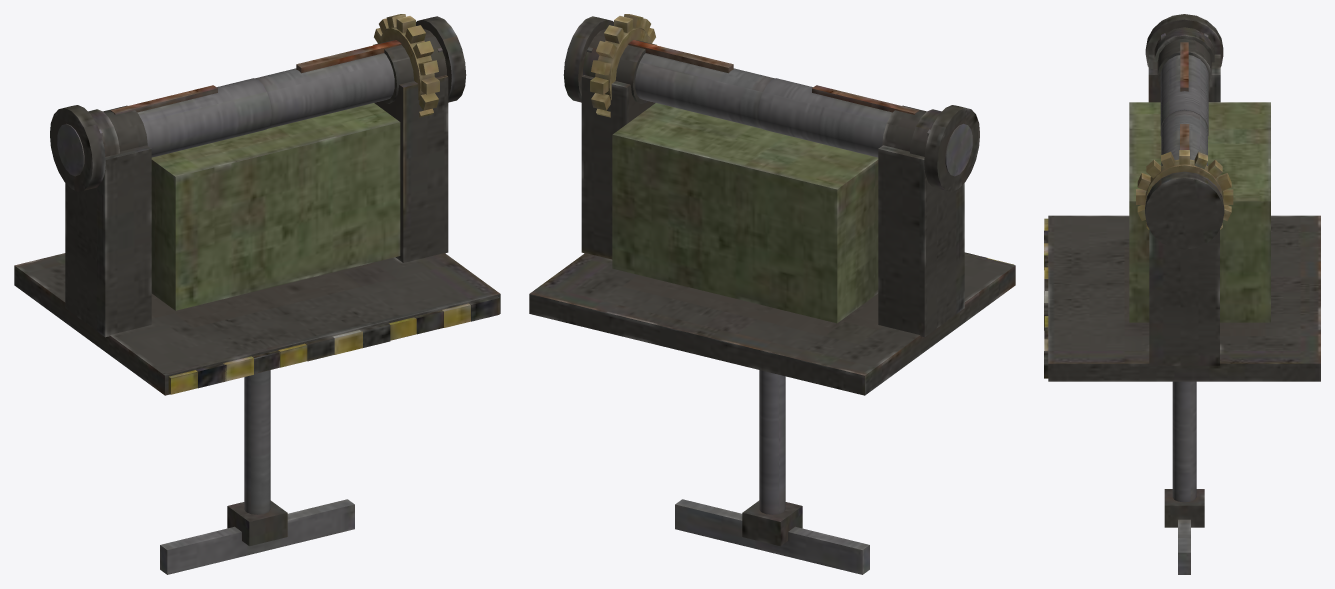
The model's file is feBender.glb.
3 renders of one model, left to right at view 1: azimuth 30°, elevation 25°; view 2: azimuth 150°, elevation 25°; view 3: azimuth 270°, elevation 25°, orthographic. The views are drawn at different scales.
Visible parts, largest first — view 1: feBender_Base, FeSpin_DriveShaft, FePiston_InlinePunch; view 2: feBender_Base, FeSpin_DriveShaft, FePiston_InlinePunch; view 3: feBender_Base, FeSpin_DriveShaft, FePiston_InlinePunch.
Part boxes in pixels (box(x1,y1,x2,y2)): feBender_Base: box(14, 40, 500, 395); FeSpin_DriveShaft: box(50, 14, 466, 191); FePiston_InlinePunch: box(160, 370, 354, 574); feBender_Base: box(529, 40, 1015, 395); FeSpin_DriveShaft: box(563, 14, 979, 191); FePiston_InlinePunch: box(675, 370, 869, 574); feBender_Base: box(1044, 38, 1320, 381); FeSpin_DriveShaft: box(1136, 14, 1233, 249); FePiston_InlinePunch: box(1164, 381, 1204, 574).
Size of the model in its own units: 1 by 1.27 by 0.7121.
1 material, 1 textured.
